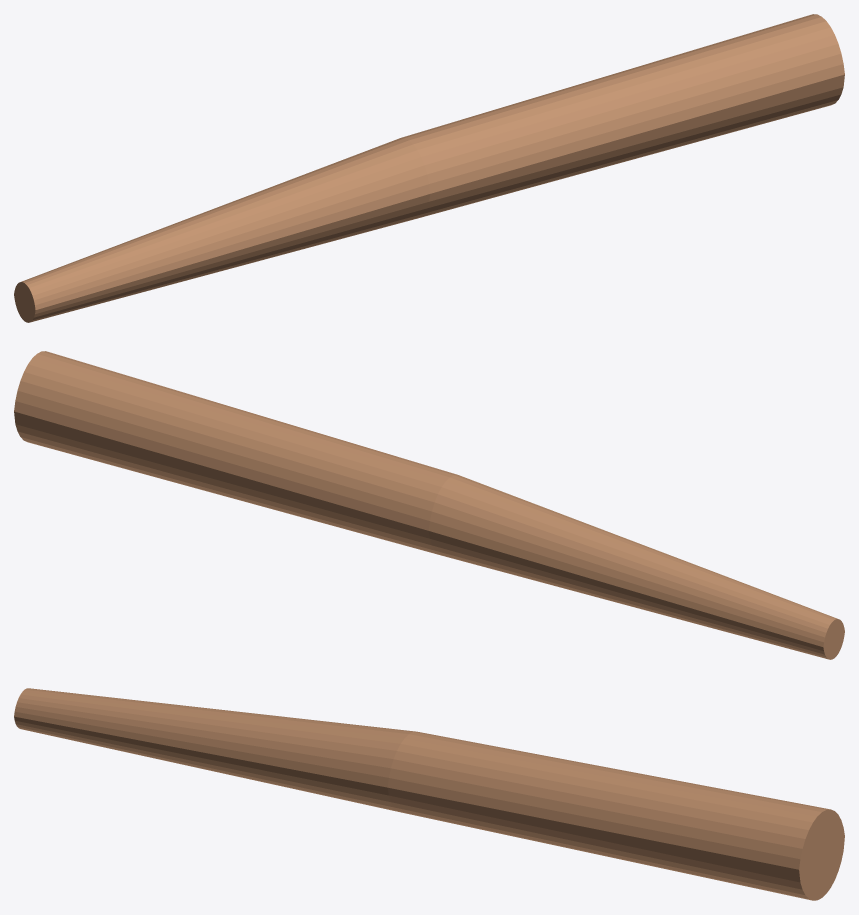
The model's file is Kiwi Beak.glb.
The picture shows the model from 3 angles, top to bottom: view 1: azimuth 30°, elevation 25°; view 2: azimuth 150°, elevation 25°; view 3: azimuth 330°, elevation 25°; orthographic projection.
Visible parts, largest first — view 1: Cone; view 2: Cone; view 3: Cone.
Boxes of the visible parts, <box> form: Cone: <box>14,14,844,322</box>; Cone: <box>14,351,844,659</box>; Cone: <box>14,688,844,900</box>.
Bounding box in the file's own units: 3.83 × 0.5059 × 0.3819.
